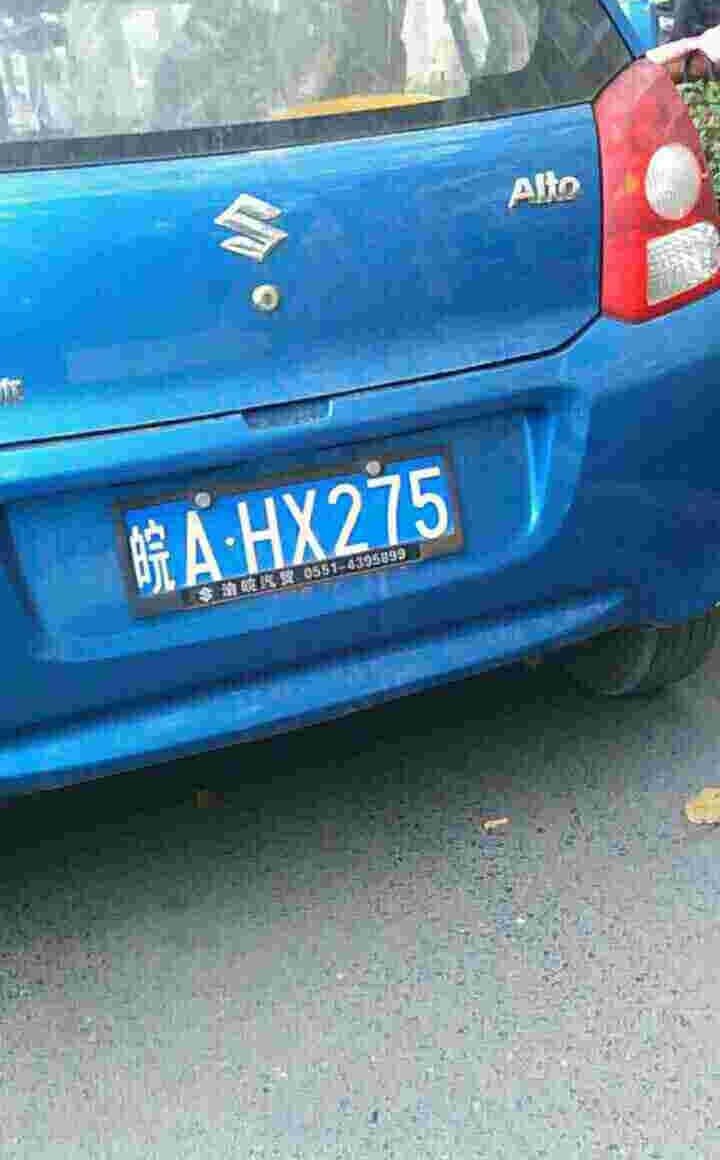license_plate: (107, 461, 461, 593)
